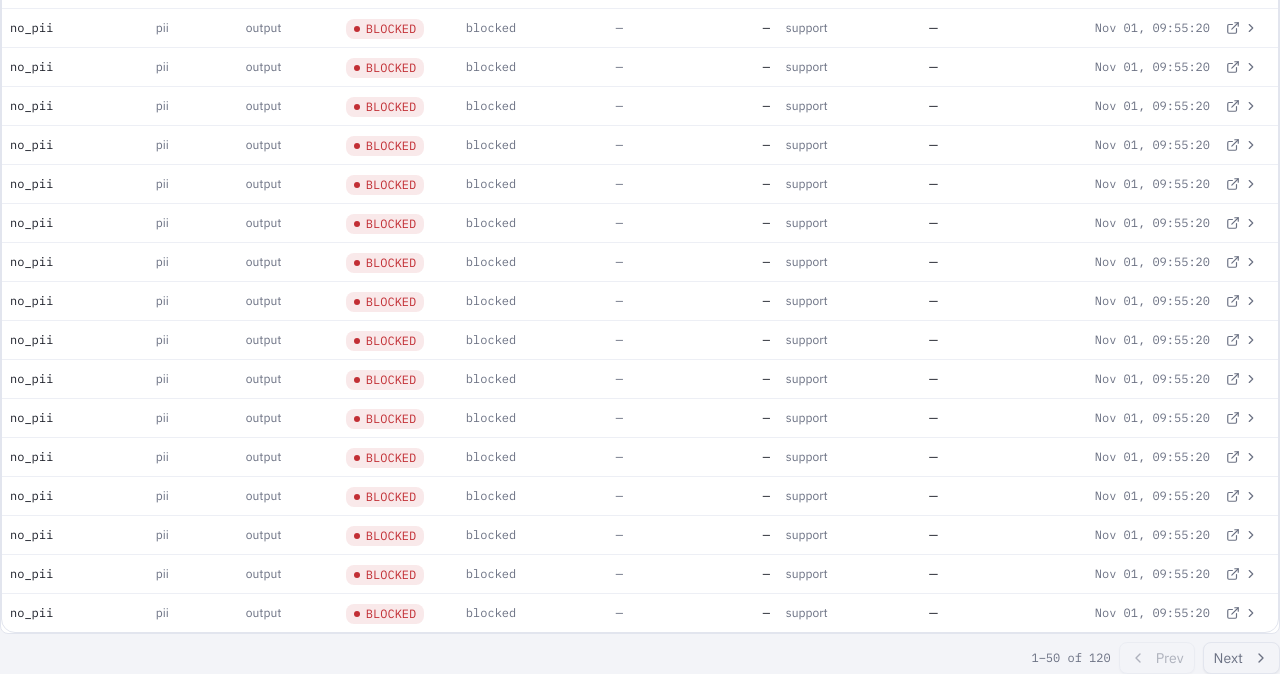
Test case: GuardrailsPage › pages with Next and Prev, and shows the range
This screenshot has width=1280, height=674.
(page scrolled)
expect the text with test id "guardrail-pager-range" reads "1–50 of 120": met, box 1032,650 -> 1111,666
Step 1. Click the button "Next" → (1241, 658), box 1203,642 -> 1279,673
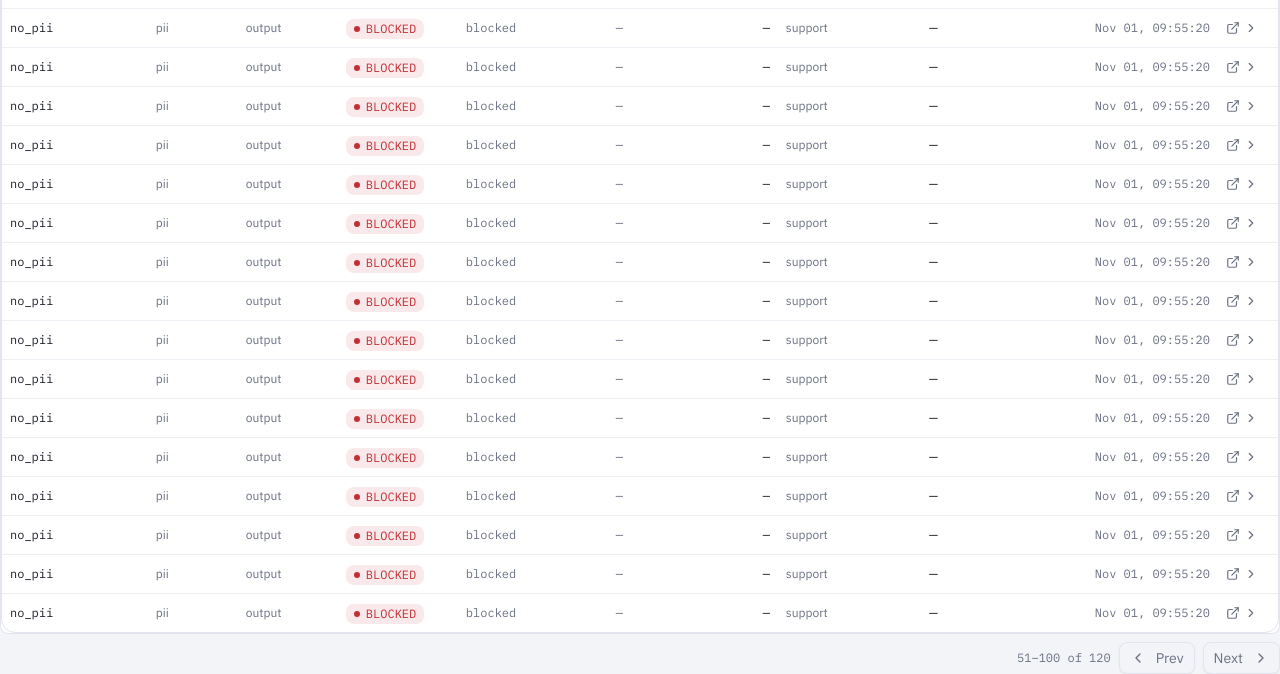
expect the text with test id "guardrail-pager-range" reads "51–100 of 120": met, box 1017,650 -> 1111,666
Step 2. Click the button "Prev" → (1157, 658), box 1119,642 -> 1195,673
(page scrolled)
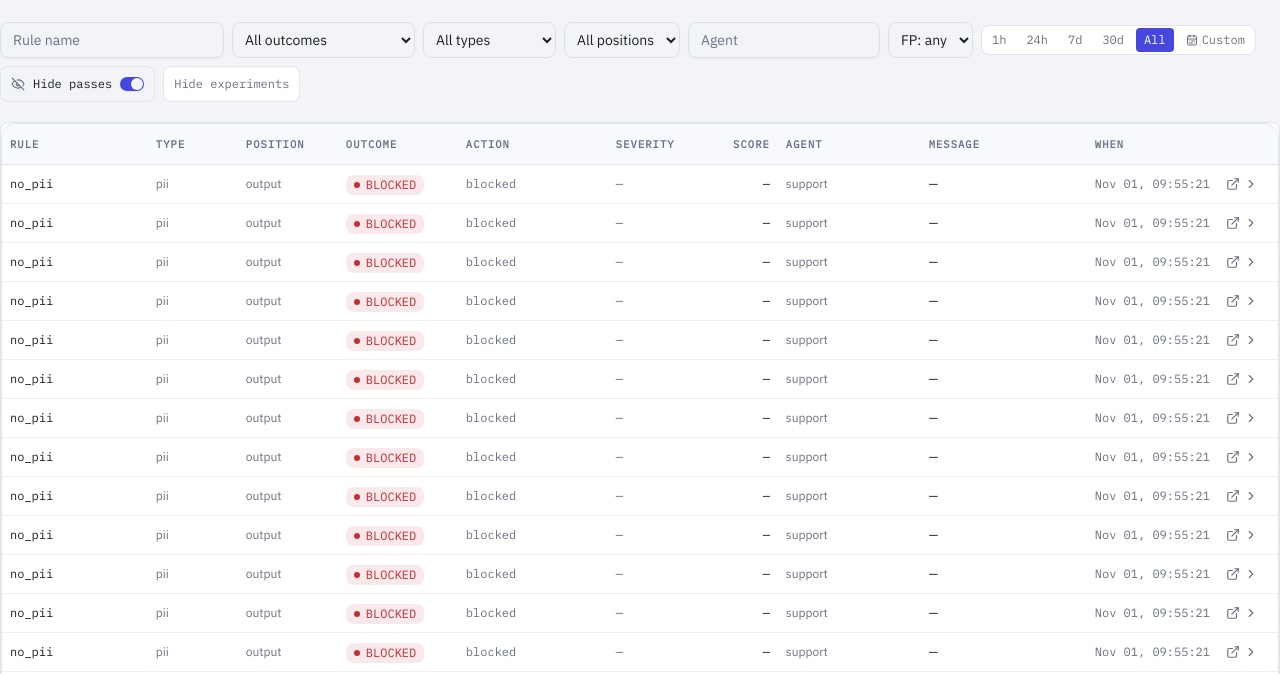
expect the row with test id "guardrail-row-e0" is shown: met, box 2,164 -> 1278,203
